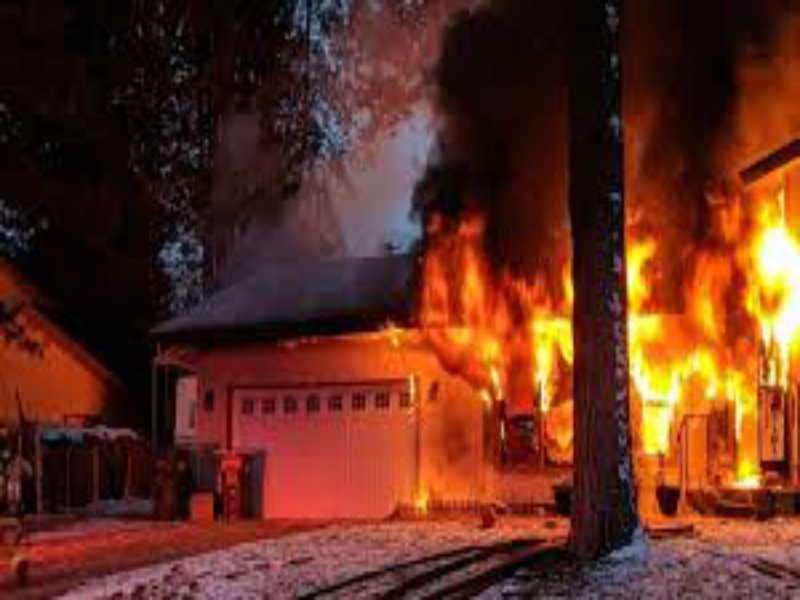fire: (417, 217, 571, 382), (745, 203, 797, 397), (624, 232, 667, 456), (492, 388, 576, 472), (669, 329, 730, 395), (735, 401, 765, 497)
